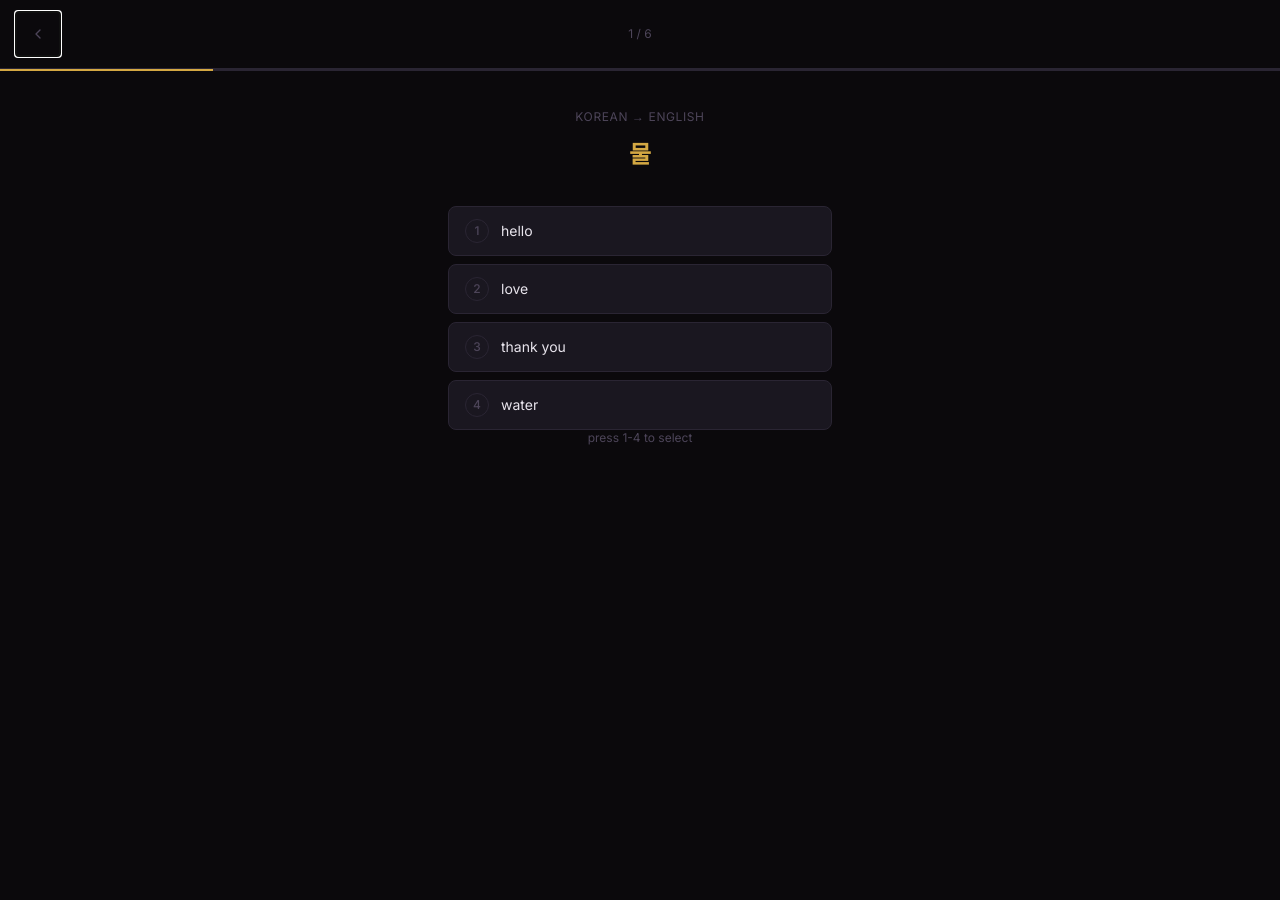
Test: QuizMode — answering › hides keyboard hint after answering
This screenshot has width=1280, height=900.
Click the button "1 hello" at (517, 230), box top-left (448, 206), bottom-right (832, 256)
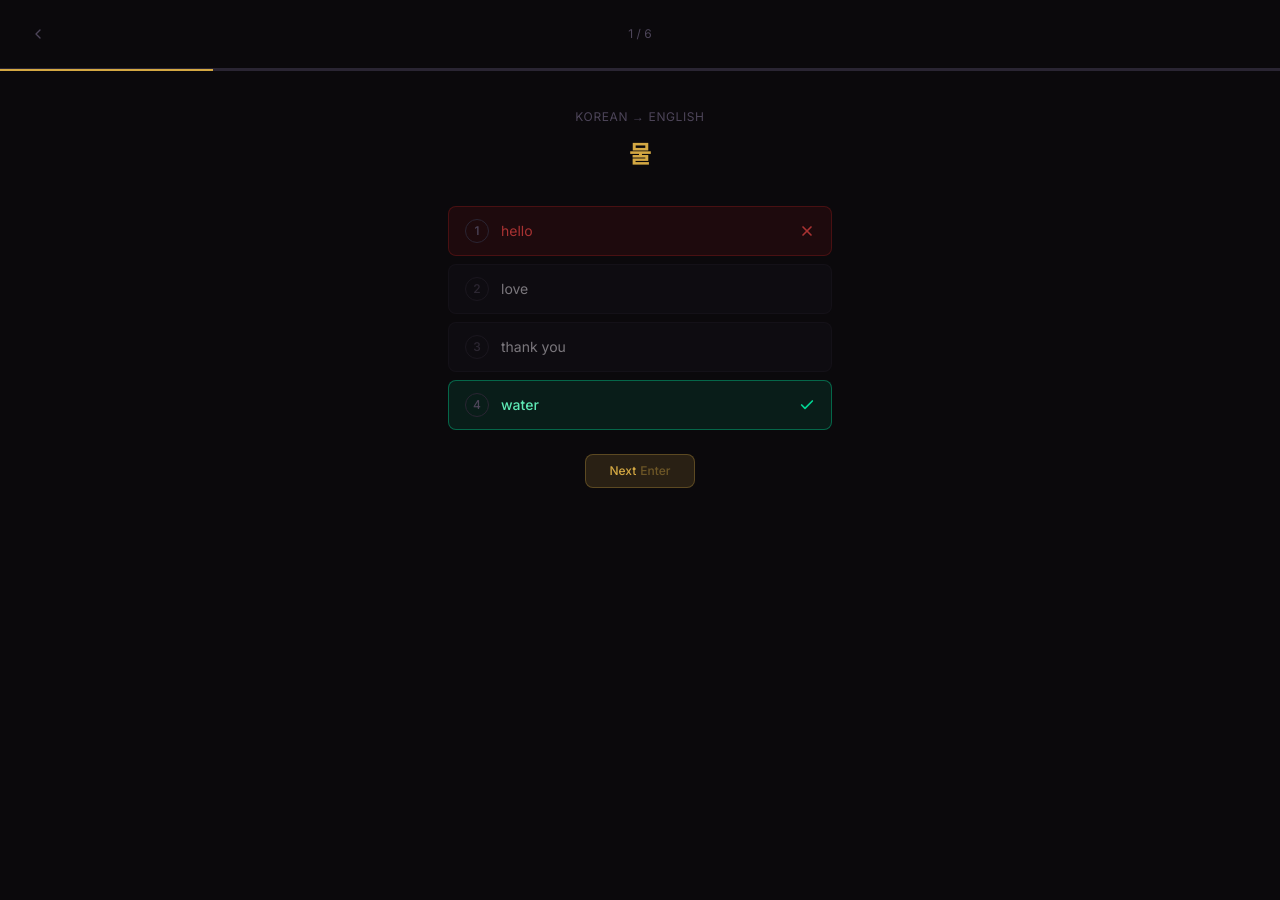
expect the text "press 1-4 to select" is gone: met
